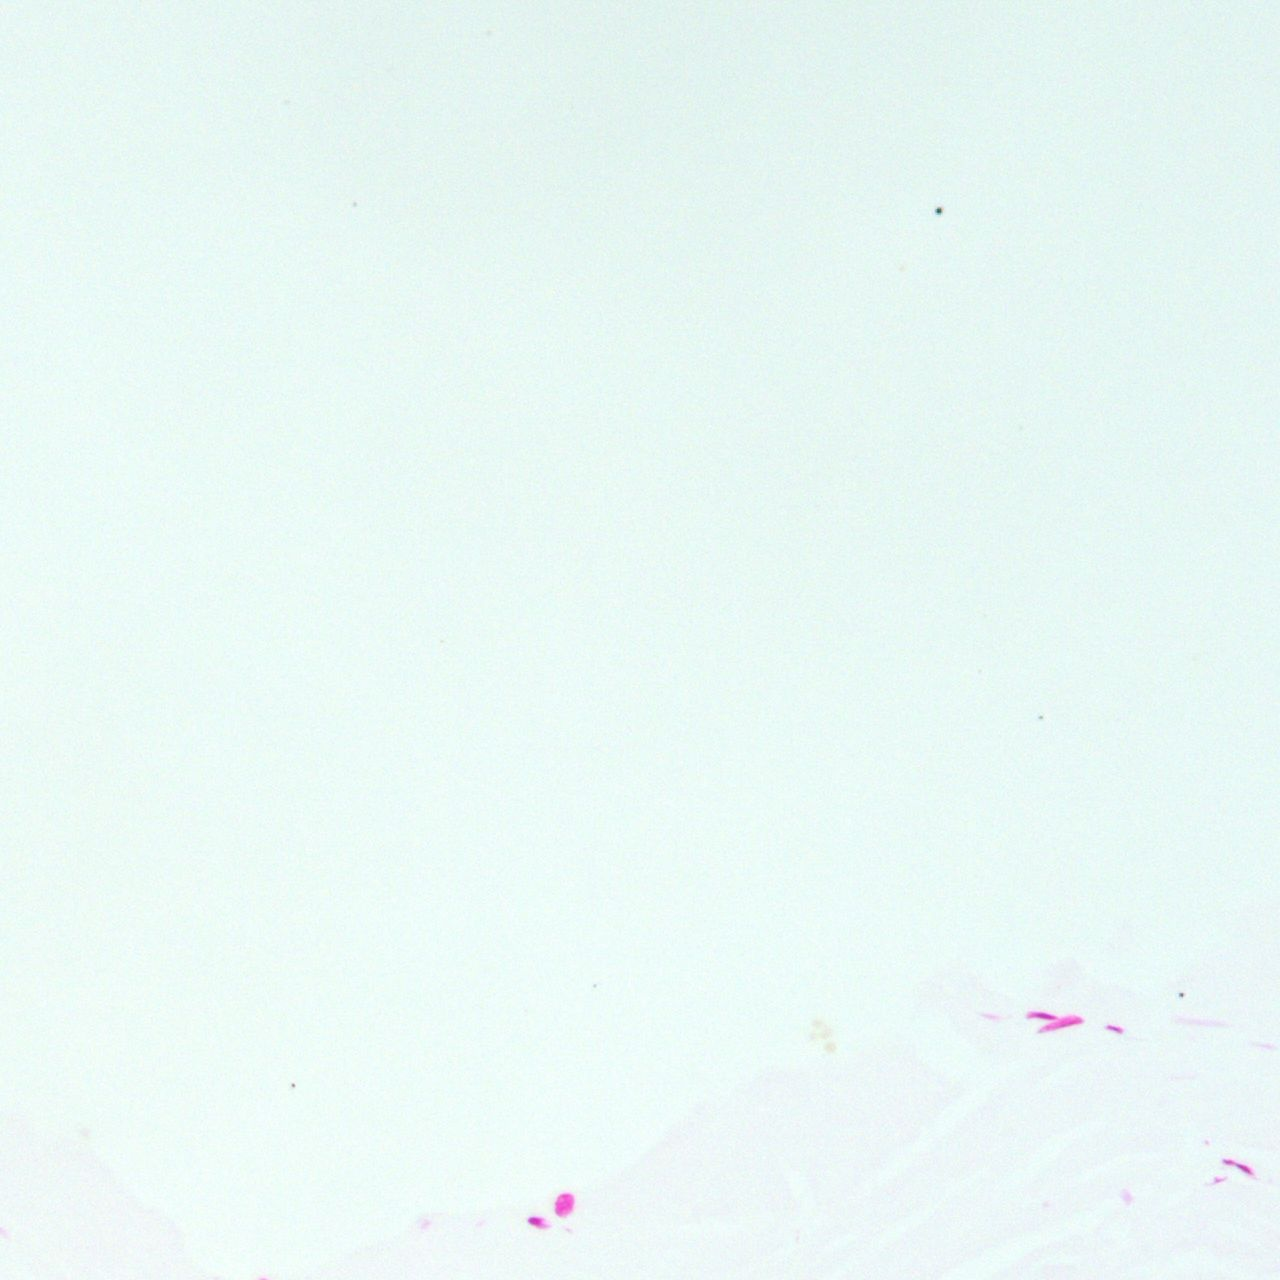dust: (935, 207, 942, 213), (1178, 992, 1183, 996), (291, 1082, 295, 1087), (1037, 715, 1043, 719)
nucleus-FG: (1039, 1012, 1082, 1034), (1220, 1155, 1255, 1176), (527, 1216, 549, 1228), (1032, 1012, 1056, 1019), (1105, 1024, 1123, 1032)
